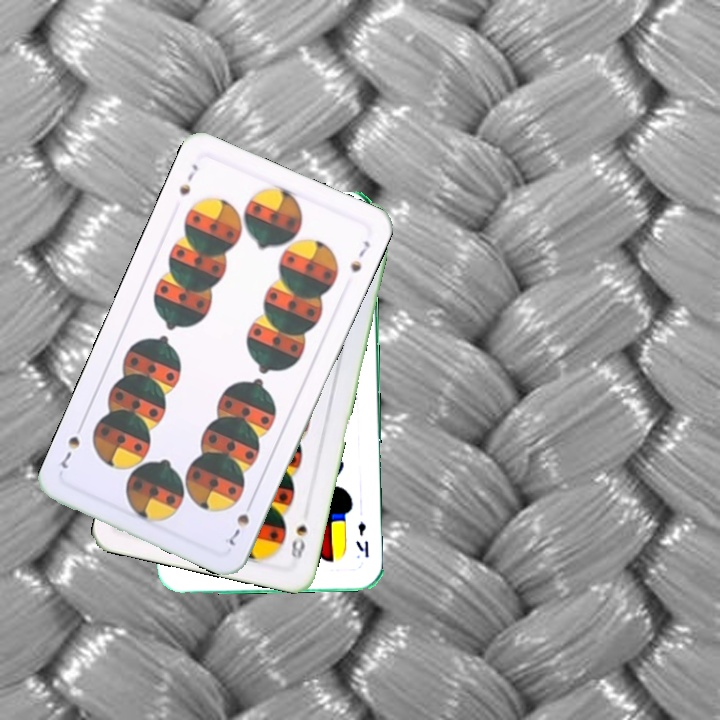EK: (352, 517, 372, 560)
S7: (224, 496, 256, 549), (175, 160, 201, 198)
S8: (286, 521, 310, 562)
